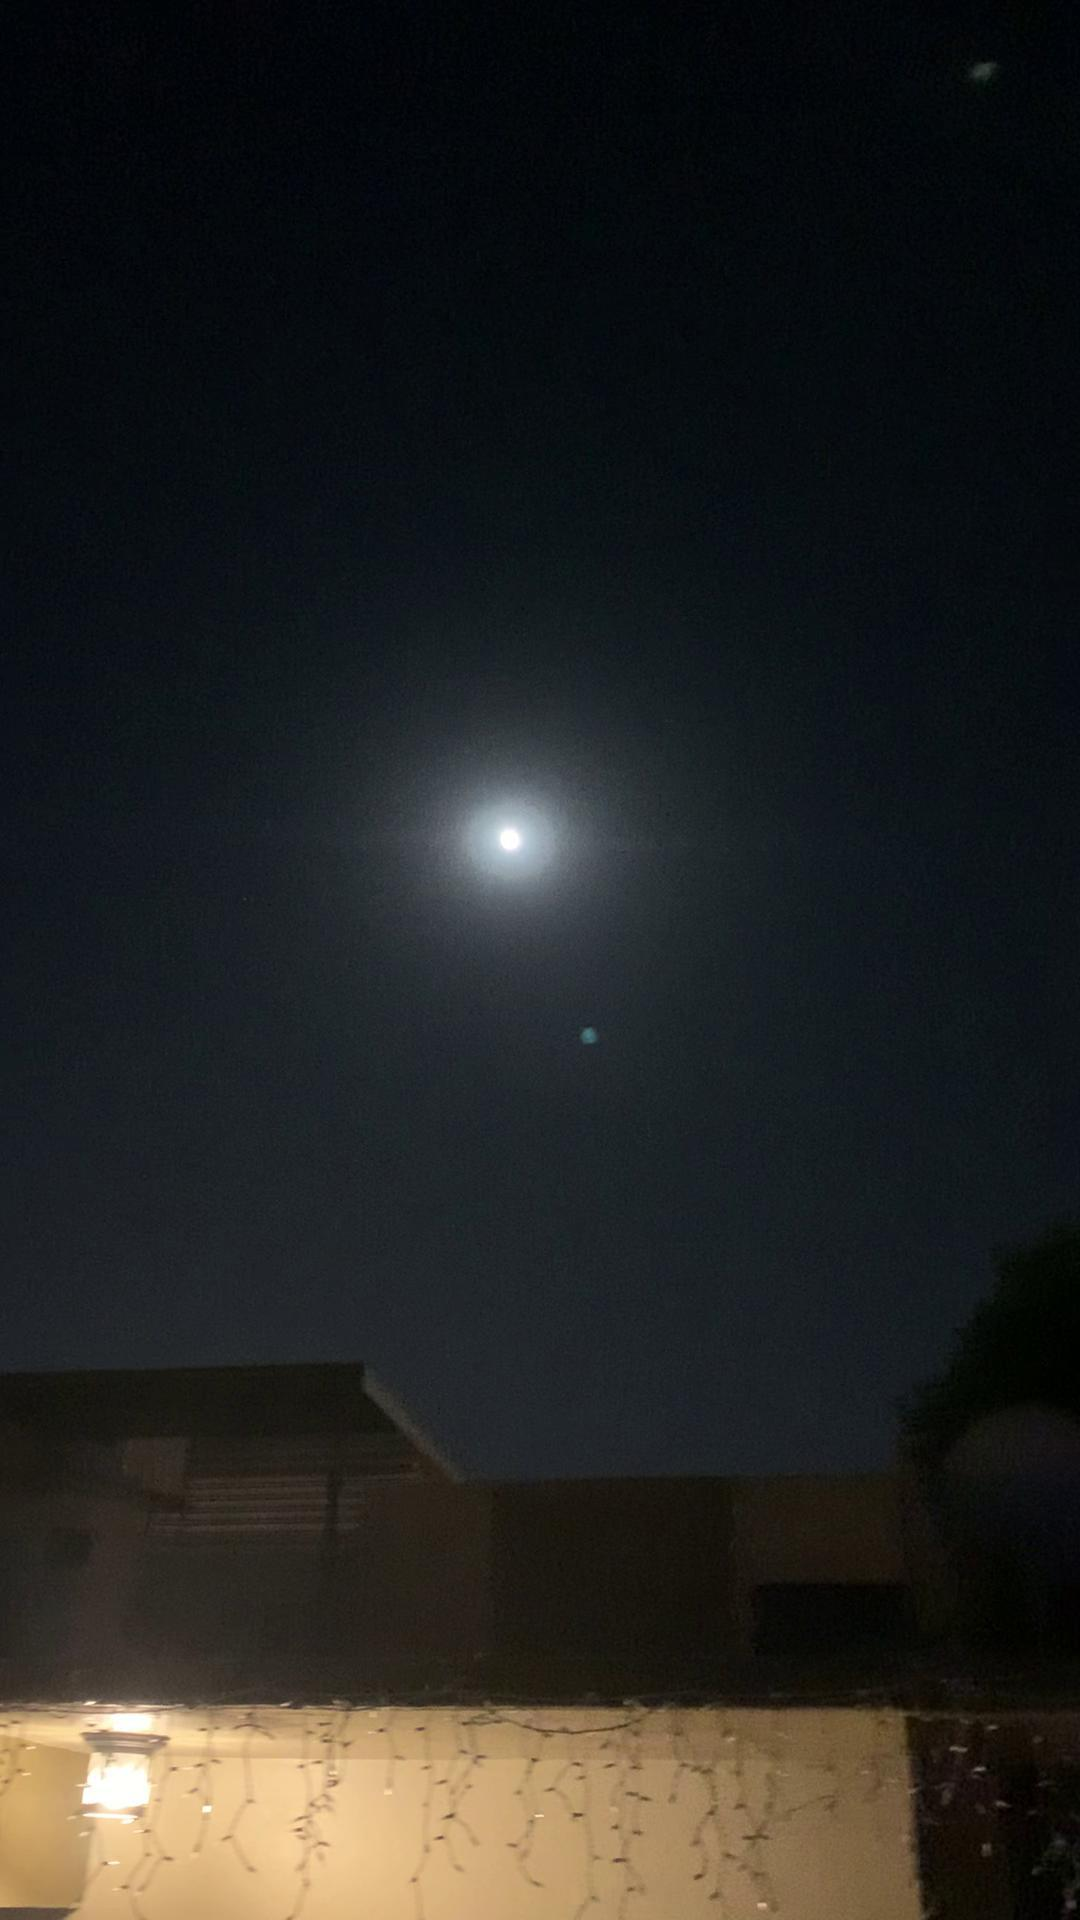moon: (467, 799, 554, 894)
